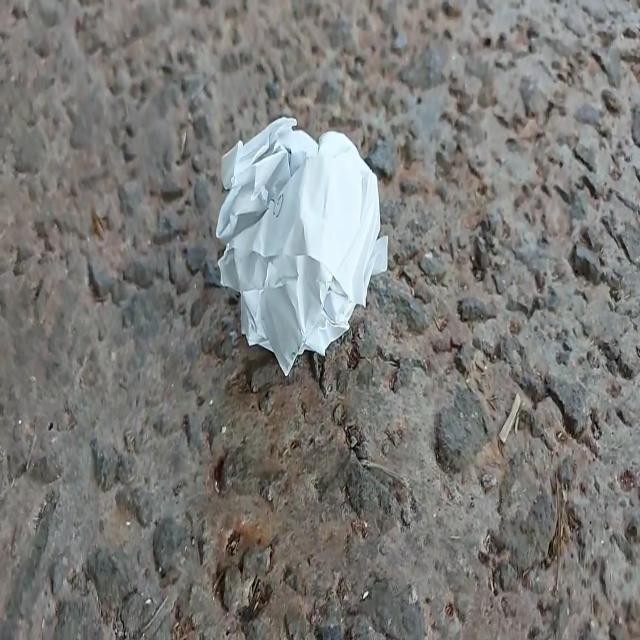paper: (202, 113, 402, 379)
